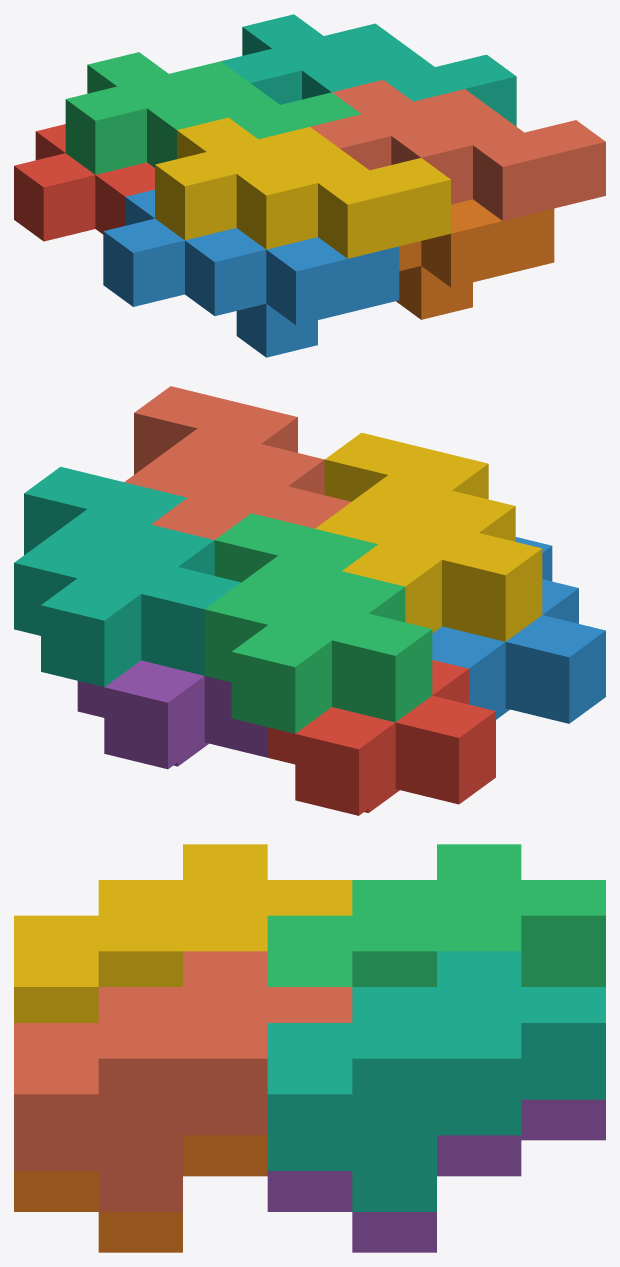
File: tiling.obj
3 renders of one model, top to bottom at view 1: azimuth 30°, elevation 25°; view 2: azimuth 150°, elevation 25°; view 3: azimuth 270°, elevation 25°, orthographic. The views are drawn at different scales.
Visible parts, largest first — view 1: copy_1_domain_4, copy_1_domain_2, copy_1_domain_8, copy_1_domain_3, copy_1_domain_7, copy_1_domain_6, copy_1_domain_1; view 2: copy_1_domain_3, copy_1_domain_7, copy_1_domain_4, copy_1_domain_8, copy_1_domain_1, copy_1_domain_2, copy_1_domain_5; view 3: copy_1_domain_7, copy_1_domain_8, copy_1_domain_3, copy_1_domain_4, copy_1_domain_5, copy_1_domain_6.
Part boxes in pixels (x1,y1,x2,y2): copy_1_domain_4: (155, 117, 450, 258); copy_1_domain_2: (103, 189, 399, 357); copy_1_domain_8: (310, 79, 605, 220); copy_1_domain_3: (65, 52, 361, 174); copy_1_domain_7: (221, 14, 516, 126); copy_1_domain_6: (396, 199, 554, 319); copy_1_domain_1: (14, 124, 154, 241); copy_1_domain_3: (204, 513, 432, 733); copy_1_domain_7: (14, 466, 240, 687); copy_1_domain_4: (315, 432, 542, 641); copy_1_domain_8: (124, 386, 350, 539); copy_1_domain_1: (268, 660, 495, 815); copy_1_domain_2: (432, 537, 605, 723); copy_1_domain_5: (77, 660, 268, 769); copy_1_domain_7: (267, 951, 605, 1211); copy_1_domain_8: (14, 951, 352, 1211); copy_1_domain_3: (267, 844, 605, 986); copy_1_domain_4: (14, 844, 352, 1022); copy_1_domain_5: (267, 1099, 605, 1252); copy_1_domain_6: (14, 1135, 267, 1252).
Bounding box in the file's own units: 8 × 3 × 7.
